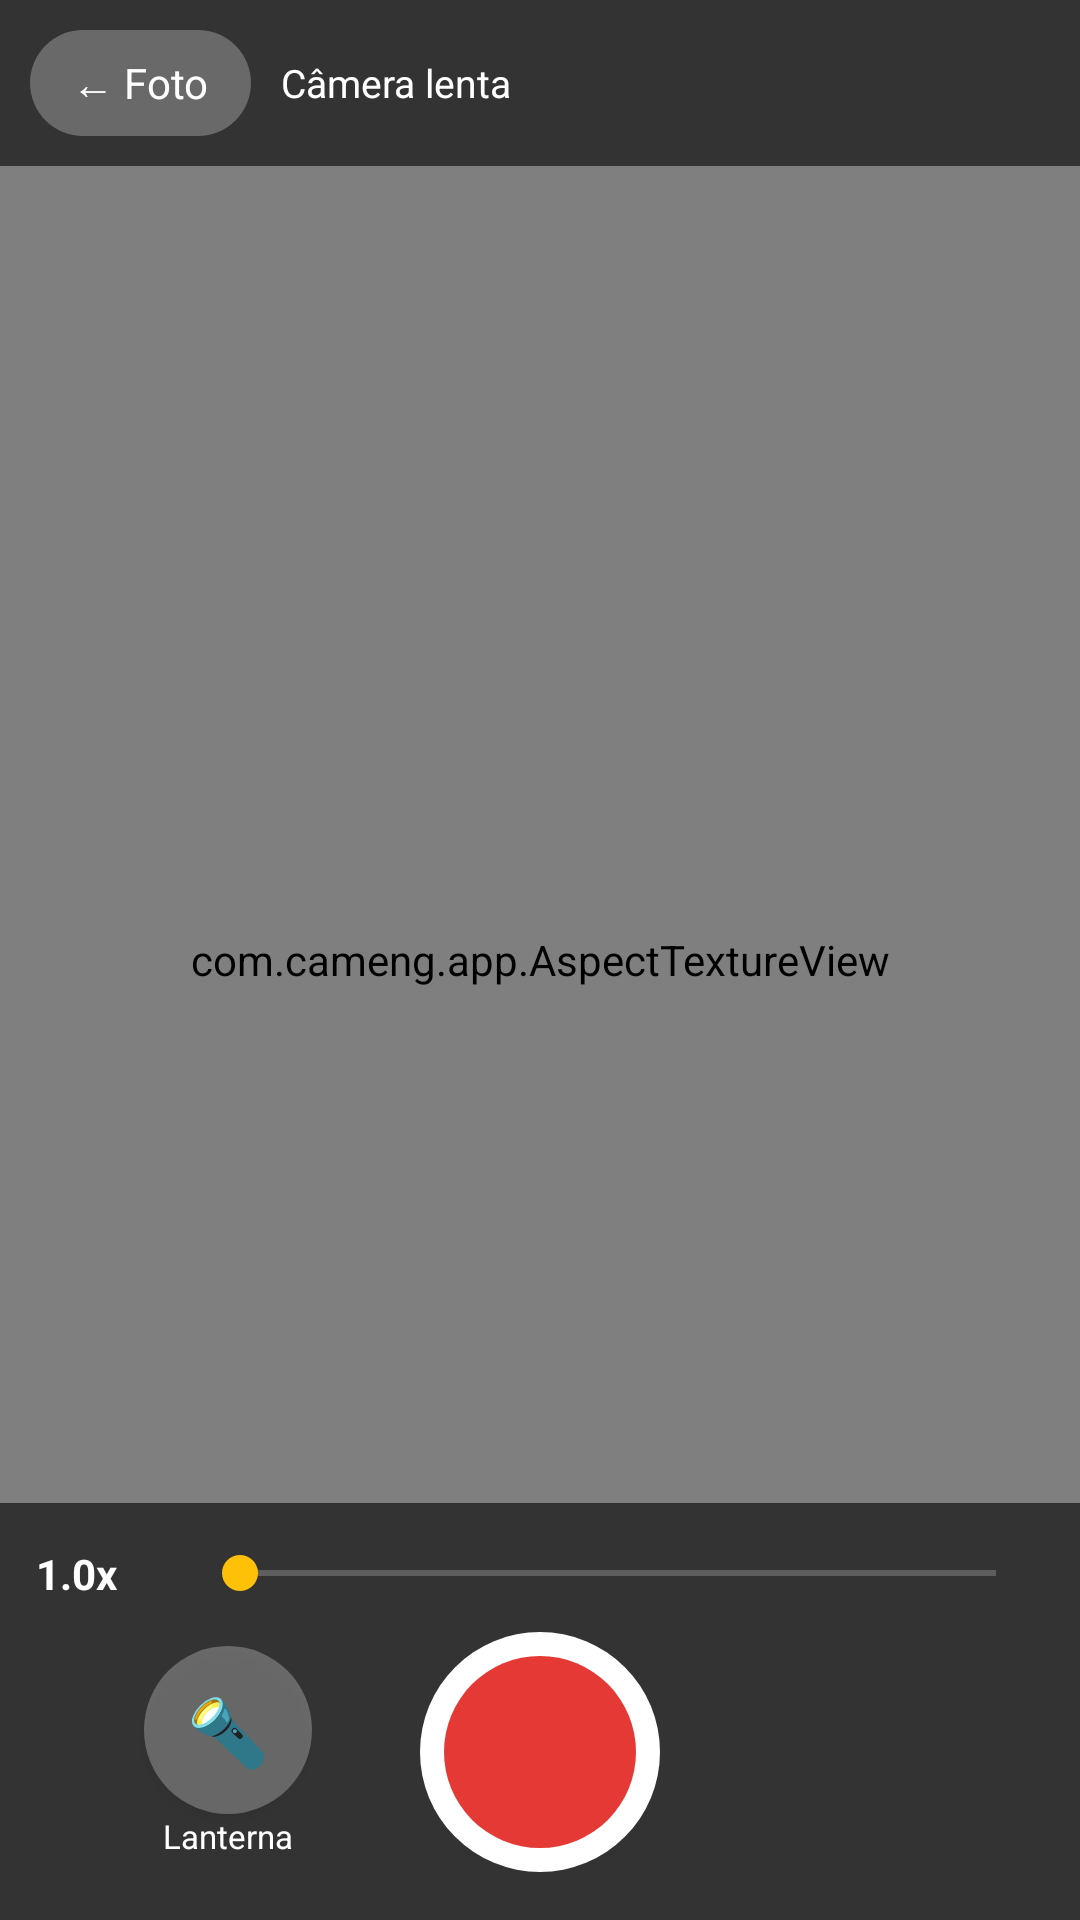

Icon click points for this 1080 x 1920 phone screenshot, format point (x, y):
Gravar: point (540, 1752)
